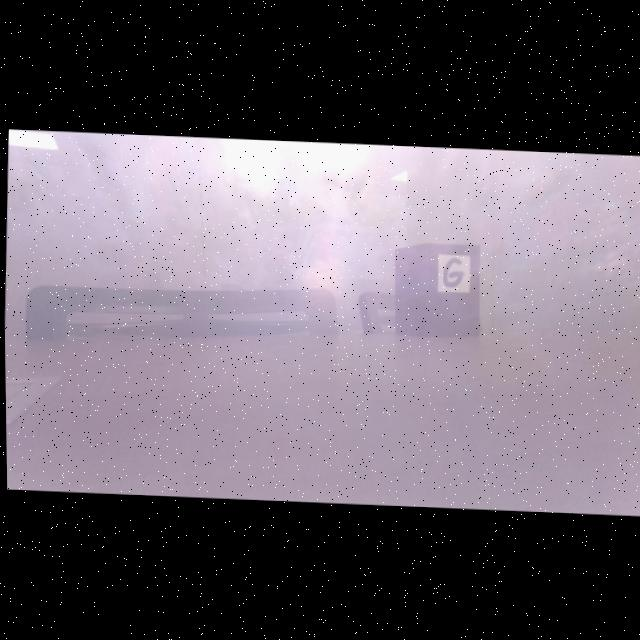G: (442, 257, 463, 286)
